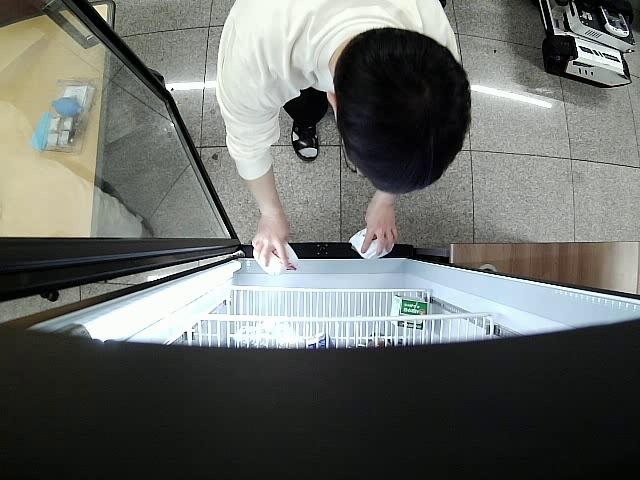00_hand: (251, 214, 293, 270), (362, 207, 397, 258)
09_yukGaeJang: (253, 237, 299, 275), (350, 228, 394, 260)
